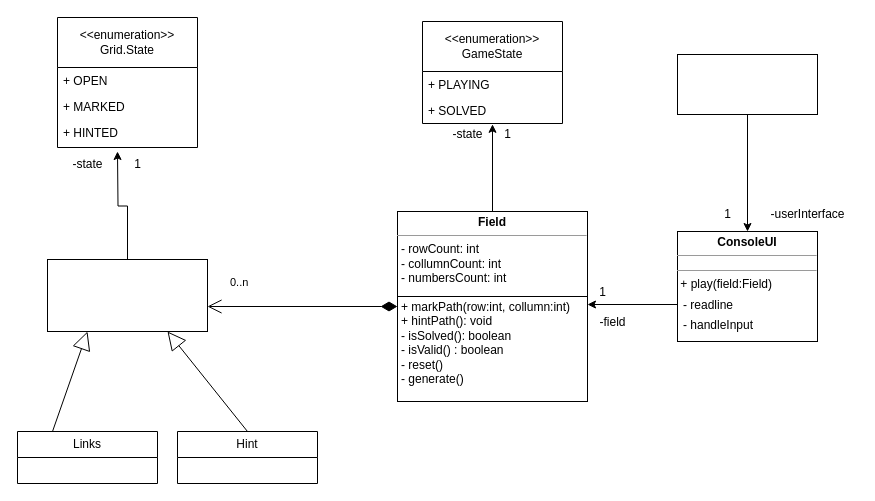
Image size: 875x501. Some labels were removed from this diagram. Each missing label, with the centre of its shape:
Grids + getState(): Tile.State ~ setState(state: TIle.State): the point at 127,295
NumberLink + main(args:String): the point at 747,84
